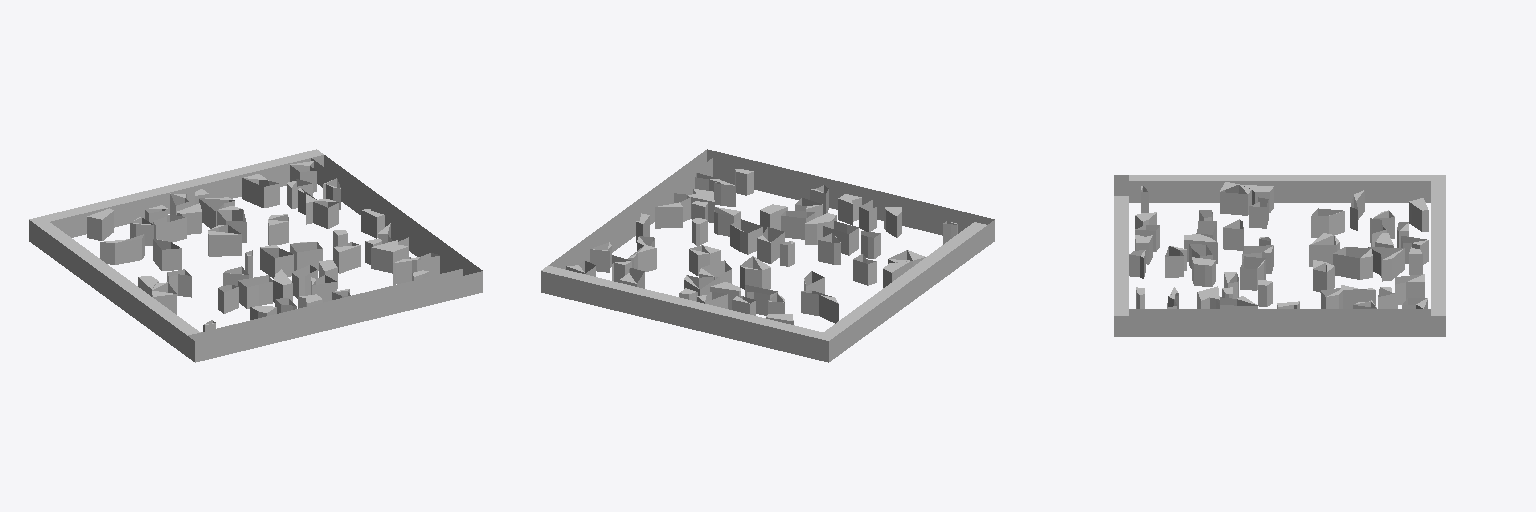
The model's file is RandomPolygons_planar_env.obj.
3 views of the same model, side by side, from view 1: azimuth 30°, elevation 25°; view 2: azimuth 150°, elevation 25°; view 3: azimuth 270°, elevation 25° (orthographic).
Visible parts, largest first — view 1: instance_0-3, instance_0-33, instance_0-10, instance_0-14, instance_0-4, instance_0-12, instance_0-11, instance_0-39, instance_0-34, instance_0-27, instance_0-36, instance_0-5 (+9 smaller); view 2: instance_0-3, instance_0-33, instance_0-10, instance_0-4, instance_0-28, instance_0-34, instance_0-11, instance_0-20, instance_0-27, instance_0-39, instance_0-14, instance_0-40 (+7 smaller); view 3: instance_0-3, instance_0-10, instance_0-20, instance_0-14, instance_0-5, instance_0-33, instance_0-28, instance_0-11, instance_0-12, instance_0-29, instance_0-30, instance_0-17 (+3 smaller).
Part boxes in pixels (x1,y1,x2,y2): instance_0-3: (29, 149, 482, 362); instance_0-33: (371, 223, 408, 273); instance_0-10: (199, 197, 246, 242); instance_0-14: (298, 188, 338, 228); instance_0-4: (100, 234, 144, 264); instance_0-12: (242, 174, 279, 207); instance_0-11: (208, 225, 241, 256); instance_0-39: (238, 275, 272, 308); instance_0-34: (393, 253, 439, 284); instance_0-27: (260, 245, 293, 278); instance_0-36: (153, 214, 186, 242); instance_0-5: (153, 239, 181, 270); instance_0-3: (541, 149, 994, 362); instance_0-33: (655, 189, 714, 228); instance_0-10: (684, 260, 731, 295); instance_0-4: (801, 290, 838, 323); instance_0-28: (730, 219, 762, 254); instance_0-34: (695, 173, 735, 206); instance_0-11: (740, 256, 770, 289); instance_0-20: (883, 250, 925, 287); instance_0-27: (757, 227, 784, 263); instance_0-39: (823, 221, 858, 255); instance_0-14: (628, 236, 656, 271); instance_0-40: (781, 211, 814, 239); instance_0-3: (1114, 175, 1445, 336); instance_0-10: (1333, 247, 1404, 281); instance_0-20: (1220, 182, 1273, 215); instance_0-14: (1321, 285, 1375, 308); instance_0-5: (1311, 208, 1344, 237); instance_0-33: (1197, 286, 1257, 308); instance_0-28: (1240, 256, 1265, 290); instance_0-11: (1309, 233, 1339, 266); instance_0-12: (1395, 274, 1424, 304); instance_0-29: (1192, 257, 1215, 286); instance_0-30: (1165, 246, 1186, 277); instance_0-17: (1313, 260, 1334, 292).
Size of the model in its own units: 110 by 7.87 by 110.